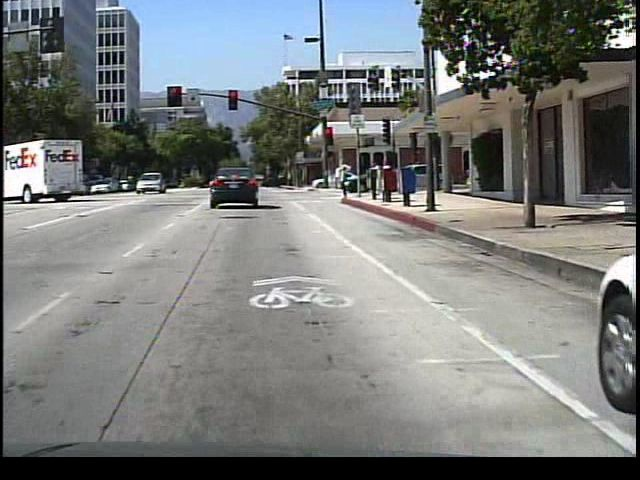person: (334, 152, 357, 202)
